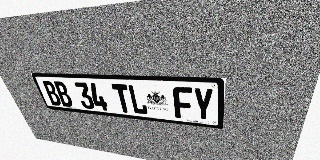3: (74, 82, 96, 109)
4: (87, 83, 109, 111)
B: (52, 81, 74, 107), (41, 81, 63, 106)
F: (172, 86, 193, 119)
L: (127, 84, 148, 115)
T: (111, 84, 133, 113)
Y: (193, 87, 214, 122)
